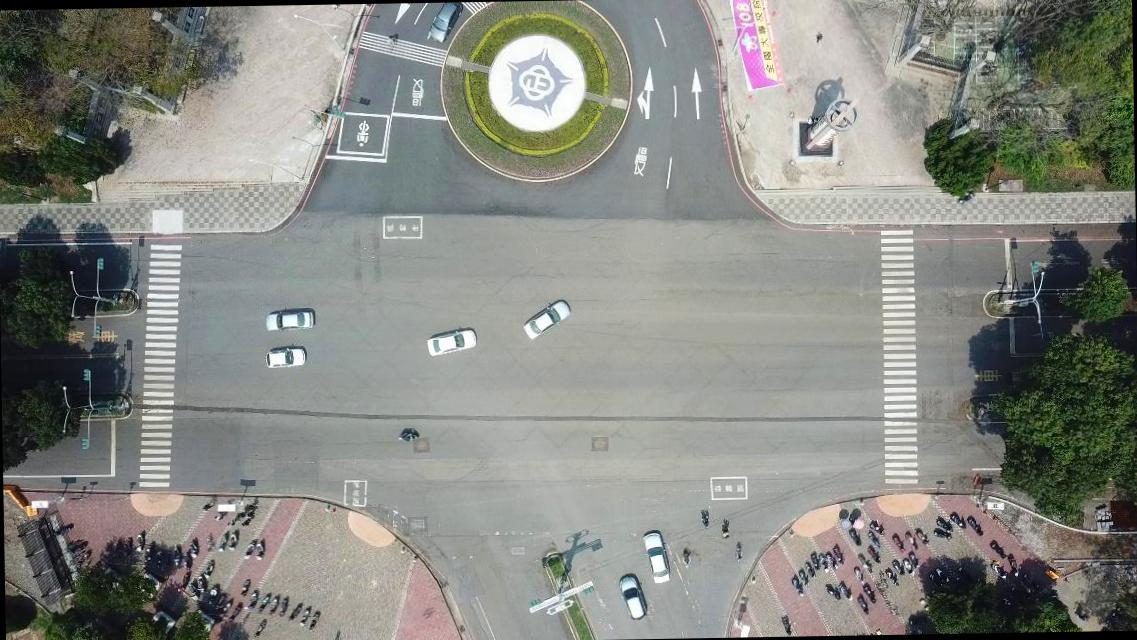vehicle: (518, 298, 572, 342), (640, 529, 672, 586), (426, 2, 464, 44), (426, 328, 476, 357), (617, 576, 646, 623), (264, 310, 314, 332), (262, 346, 304, 371)
